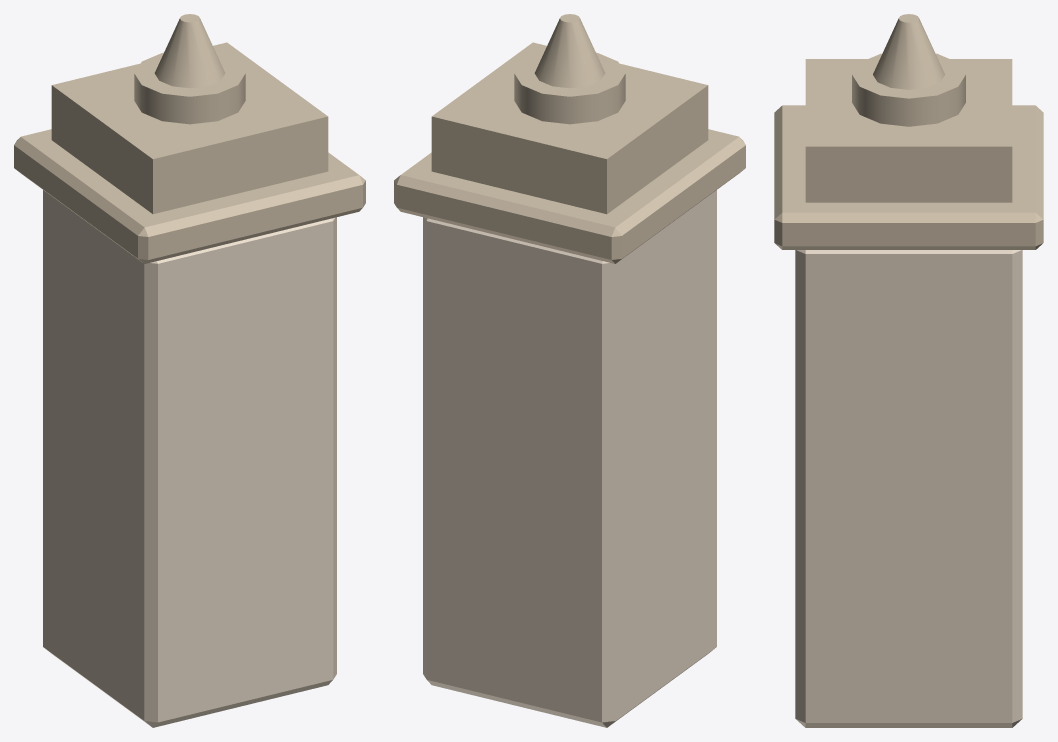
Rendered from stair_pier.glb.
3 renders of one model, left to right at view 1: azimuth 30°, elevation 25°; view 2: azimuth 150°, elevation 25°; view 3: azimuth 270°, elevation 25°, orthographic. The views are drawn at different scales.
Visible parts, largest first — view 1: stair_pier; view 2: stair_pier; view 3: stair_pier.
Part boxes in pixels (left/top/right/bottom): stair_pier: left=14, top=14, right=365, bottom=727; stair_pier: left=394, top=14, right=745, bottom=727; stair_pier: left=774, top=14, right=1043, bottom=727.
Bounding box in the file's own units: 0.52 × 1.42 × 0.52.
Materials: 2 (2 with a texture image).
